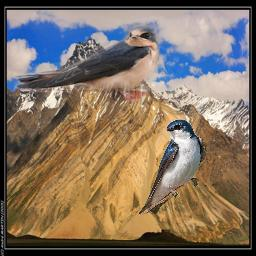Swallow: (14, 22, 160, 102), (138, 118, 206, 216)
